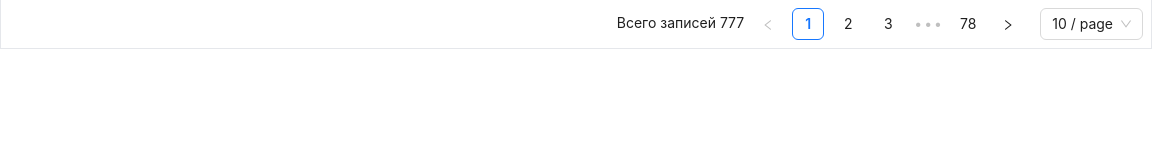
Test: PaginationContainer test › Проверяем переключение страниц пагинации
The image size is (1152, 160).
Check: the link "2" is shown, box [844,15,852,32]
Click the link "78": {"x": 968, "y": 24} [960,15,976,32]
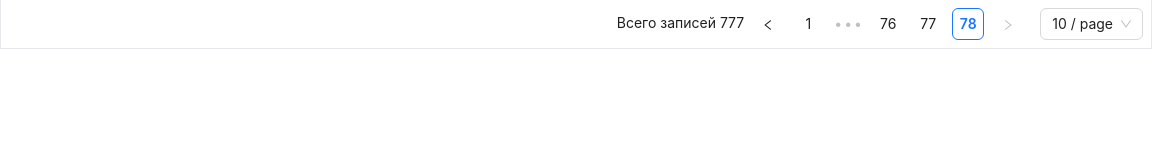
Check: the link "2" is gone
